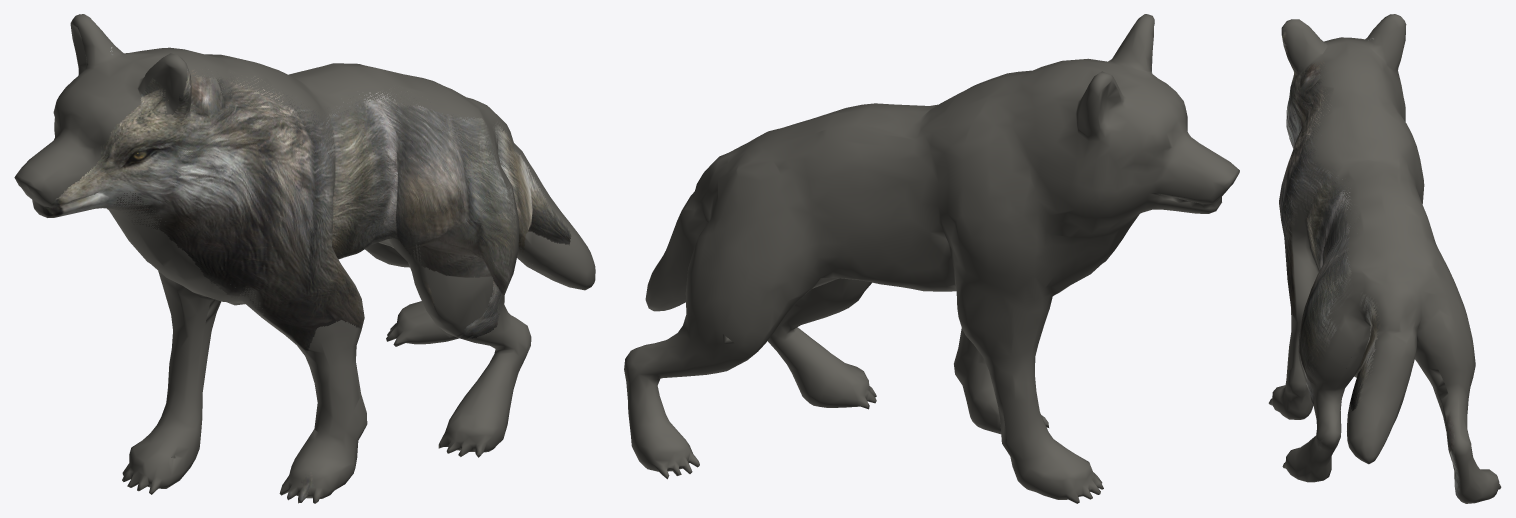
The picture shows the model from 3 angles, left to right: view 1: azimuth 30°, elevation 25°; view 2: azimuth 150°, elevation 25°; view 3: azimuth 270°, elevation 25°; orthographic projection. The views are drawn at different scales.
Visible parts, largest first — view 1: geometry_0; view 2: geometry_0; view 3: geometry_0.
Part boxes in pixels (x1=…): geometry_0: x1=14, y1=14, x2=595, y2=503; geometry_0: x1=624, y1=14, x2=1239, y2=503; geometry_0: x1=1268, y1=14, x2=1501, y2=503.
Size of the model in its own units: 2.63 by 2 by 1.22.
Materials: 1 (1 with a texture image).
